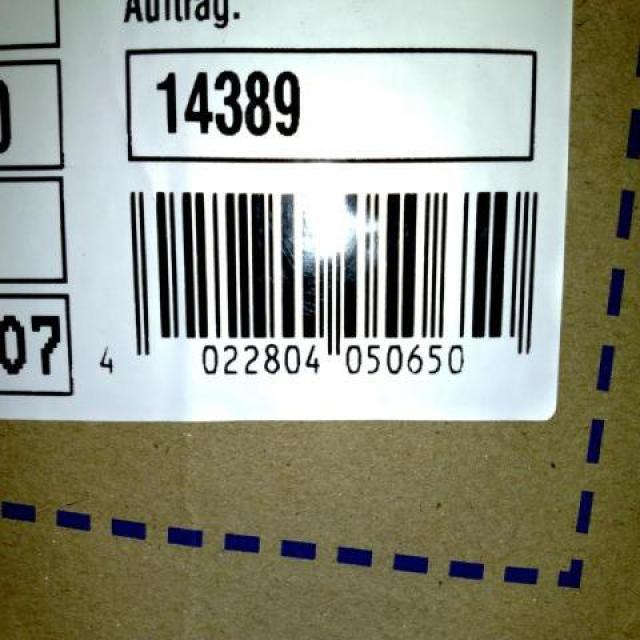Barcode: (82, 169, 551, 399)
